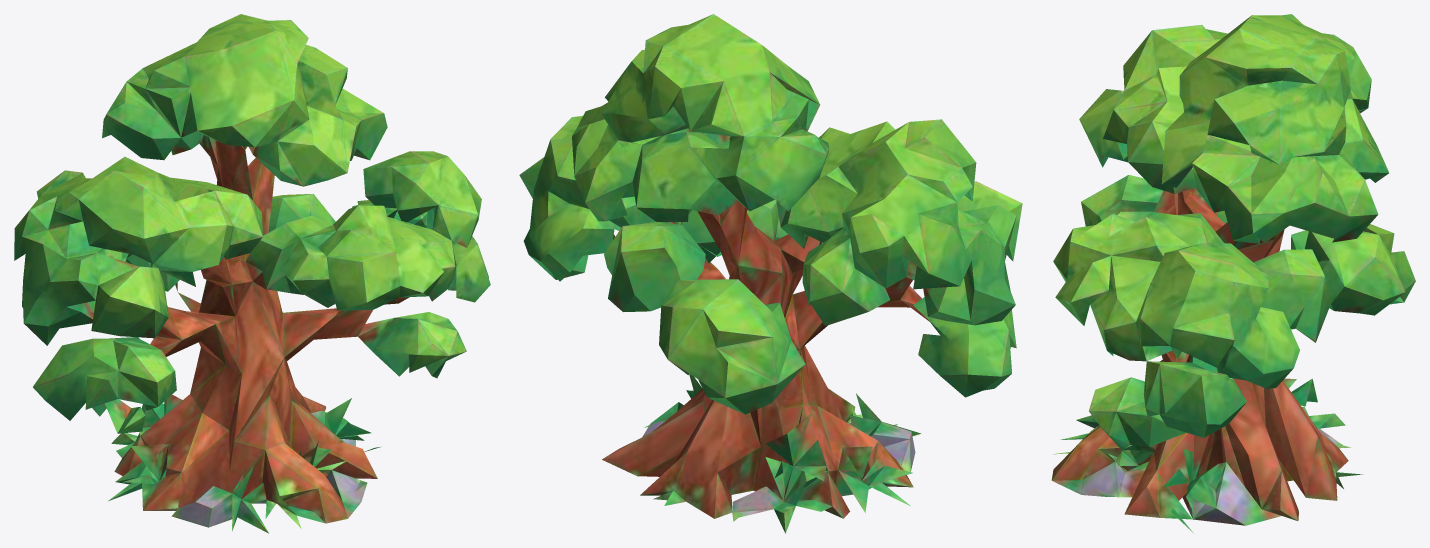
Rendered from hero_tree_mobile.glb.
3 views of the same model, side by side, from view 1: azimuth 30°, elevation 25°; view 2: azimuth 150°, elevation 25°; view 3: azimuth 270°, elevation 25° (orthographic). The views are drawn at different scales.
Parts seen in each view (by area): view 1: output_unwrapped; view 2: output_unwrapped; view 3: output_unwrapped.
Part boxes in pixels (x1,y1,x2,y2): output_unwrapped: (14,14,490,533); output_unwrapped: (519,14,1022,533); output_unwrapped: (1051,14,1415,533).
Size of the model in its own units: 1.9 by 1.67 by 1.2.
Materials: 1 (1 with a texture image).
